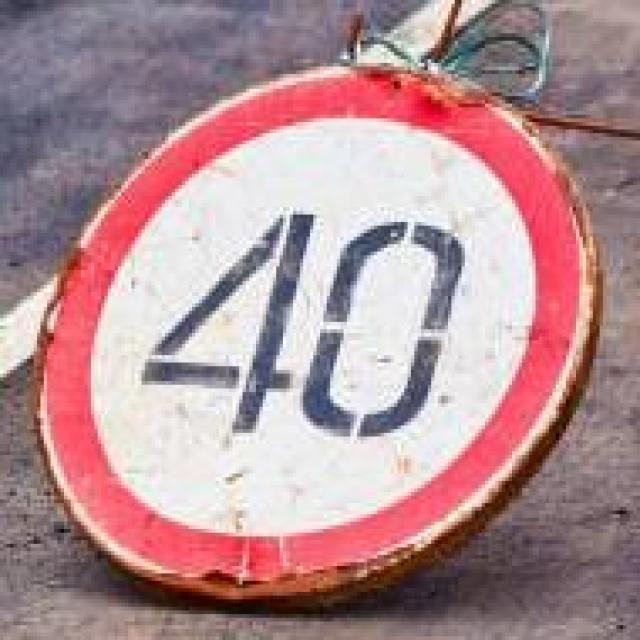obstructed_road_sign: (36, 68, 599, 608)
